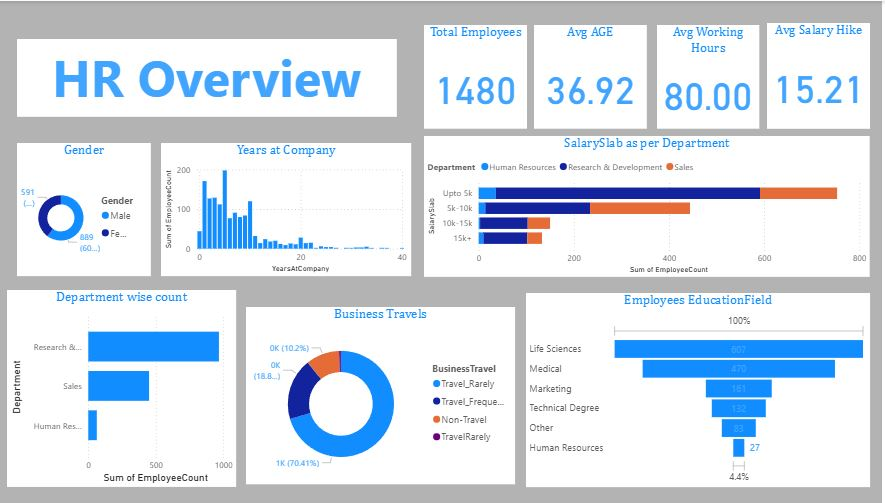

What the dashboard file says about the page in this screenshot:
{"tool":"powerbi","page":{"name":"Page 1","canvas":[1280,720],"ordinal":0},"visuals":[{"type":"clusteredBarChart","title":"Department wise count","fields":{"Category":["HR_Analytics.Department"],"Y":["Sum(HR_Analytics.EmployeeCount)"]},"box":[32.8,412.4,326.8,281.1],"z":0},{"type":"donutChart","title":" Business Travels","fields":{"Category":["HR_Analytics.BusinessTravel"],"Y":["Sum(HR_Analytics.EmployeeCount)"]},"box":[373.9,436.7,383.9,252.6],"z":1000},{"type":"donutChart","title":" Gender","fields":{"Y":["Sum(HR_Analytics.EmployeeCount)"],"Category":["HR_Analytics.Gender"]},"box":[47.1,202.6,191.2,189.8],"z":2000},{"type":"funnel","title":"Employees EducationField","fields":{"Category":["HR_Analytics.EducationField"],"Y":["Sum(HR_Analytics.EmployeeCount)"]},"box":[773.4,416.7,490.9,276.8],"z":3000},{"type":"barChart","title":"SalarySlab as per Department","fields":{"Series":["HR_Analytics.Department"],"Category":["HR_Analytics.SalarySlab"],"Y":["Sum(HR_Analytics.EmployeeCount)"]},"box":[627.9,192.6,636.4,201.2],"z":4000},{"type":"card","title":"Total Employees","fields":{"Values":["CountNonNull(HR_Analytics.EmployeeNumber)"]},"box":[627.5,34,146.6,148.4],"z":5000},{"type":"textbox","box":[46.5,53.6,541.7,110.8],"z":6000},{"type":"columnChart","title":"Years at Company","fields":{"Category":["HR_Analytics.YearsAtCompany"],"Y":["Sum(HR_Analytics.EmployeeCount)"]},"box":[252.6,202.6,356.7,189.8],"z":7000},{"type":"card","title":"Avg AGE","fields":{"Values":["Avg(HR_Analytics.Age)"]},"box":[784.8,34.2,161.2,148.4],"z":8000},{"type":"card","title":"Avg Working Hours","fields":{"Values":["Avg(HR_Analytics.StandardHours)"]},"box":[960.4,34.2,145.6,148.4],"z":9000},{"type":"card","title":"Avg Salary Hike","fields":{"Values":["Avg(HR_Analytics.PercentSalaryHike)"]},"box":[1117.3,31.4,147,151.3],"z":10000}]}

Visuals, with their boxes in screenshot pixels (x1, y1, x2, y2), scaled from the page's 1280x720 canvas onto the 885x503 screenshot:
"Department wise count" clusteredBarChart: BBox(23, 288, 249, 484)
" Business Travels" donutChart: BBox(259, 305, 524, 482)
" Gender" donutChart: BBox(33, 142, 165, 274)
"Employees EducationField" funnel: BBox(535, 291, 874, 484)
"SalarySlab as per Department" barChart: BBox(434, 135, 874, 275)
"Total Employees" card: BBox(434, 24, 535, 127)
textbox: BBox(32, 37, 407, 115)
"Years at Company" columnChart: BBox(175, 142, 421, 274)
"Avg AGE" card: BBox(543, 24, 654, 128)
"Avg Working Hours" card: BBox(664, 24, 765, 128)
"Avg Salary Hike" card: BBox(773, 22, 874, 128)
